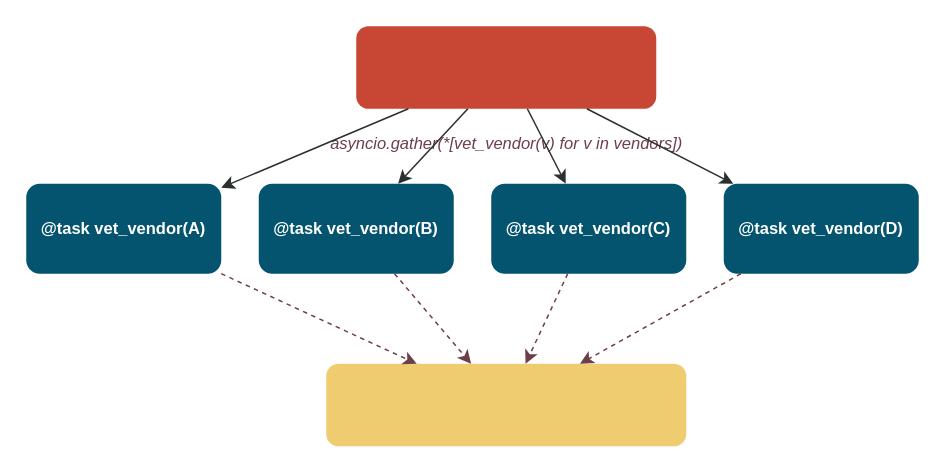
The diagram is 944 pixels wide and 471 high, and some of its shapes have lost their labels. Here are the shapes that lost their labels. From the top down, the centre of each, then its label:
At pixel 506 67: "@entrypoint vet_all(vendors)".
At pixel 506 404: "list[VendorScore] all four results, in order".
